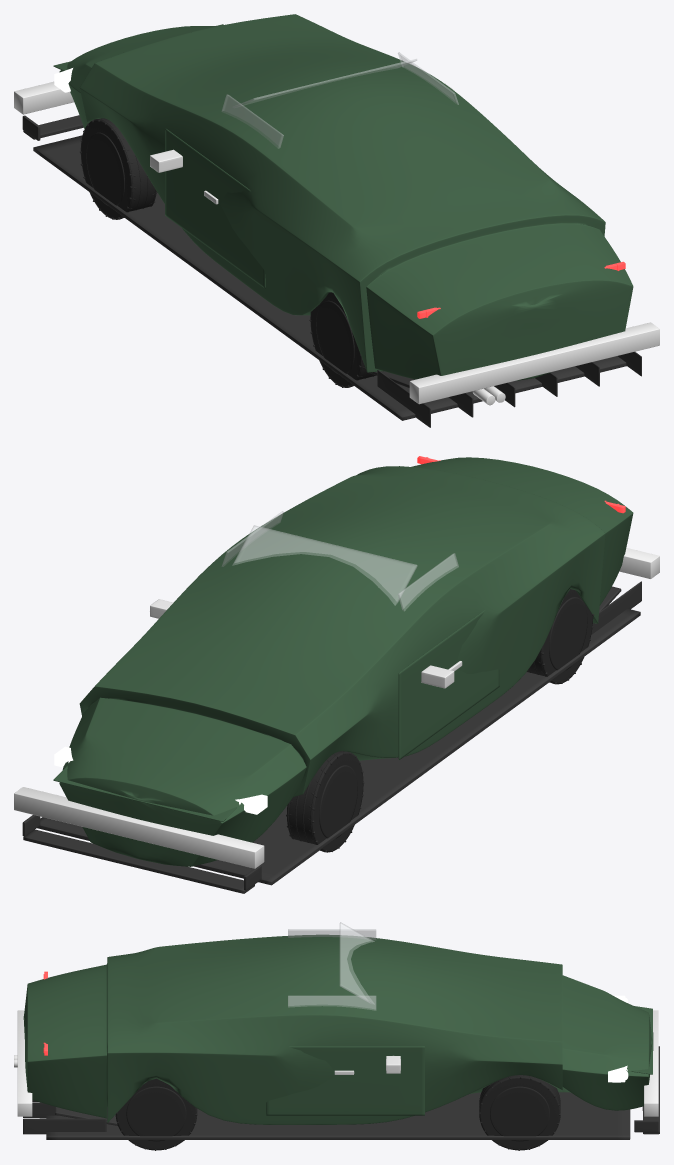
The model's file is vehicle.glb.
3 views of the same model, one above another, from view 1: azimuth 30°, elevation 25°; view 2: azimuth 150°, elevation 25°; view 3: azimuth 270°, elevation 25° (orthographic). The views are drawn at different scales.
Parts seen in each view (by area): view 1: BODY_MainShell, UNDERBODY_FlatFloor, JEWELRY_450SEL_DoubleBumpers, BODY_Door_FL, WHEEL_FL_Tire, WHEEL_RL_Tire, GLASS_Greenhouse, AERO_FrontSplitter, JEWELRY_Hardware; view 2: BODY_MainShell, UNDERBODY_FlatFloor, JEWELRY_450SEL_DoubleBumpers, BODY_Door_FL, GLASS_Greenhouse, WHEEL_FL_Tire, AERO_FrontSplitter, WHEEL_RL_Tire, JEWELRY_Hardware, BODY_Hood, LIGHTING_Headlamps; view 3: BODY_MainShell, UNDERBODY_FlatFloor, BODY_Door_FR, WHEEL_FR_Tire, WHEEL_RR_Tire, GLASS_Greenhouse, JEWELRY_450SEL_DoubleBumpers, AERO_FrontSplitter, JEWELRY_Hardware, LIGHTING_Headlamps.
Boxes of the visible parts, x1,y1,x2,y2 form: BODY_MainShell: (59, 14, 633, 380); UNDERBODY_FlatFloor: (33, 135, 641, 427); JEWELRY_450SEL_DoubleBumpers: (14, 81, 659, 404); BODY_Door_FL: (165, 128, 265, 288); WHEEL_FL_Tire: (80, 118, 157, 219); WHEEL_RL_Tire: (309, 292, 375, 387); GLASS_Greenhouse: (222, 52, 458, 148); AERO_FrontSplitter: (22, 115, 83, 140); JEWELRY_Hardware: (150, 83, 454, 204); BODY_MainShell: (59, 457, 633, 866); UNDERBODY_FlatFloor: (37, 581, 641, 885); JEWELRY_450SEL_DoubleBumpers: (14, 547, 659, 868); BODY_Door_FL: (398, 610, 499, 759); GLASS_Greenhouse: (222, 511, 458, 610); WHEEL_FL_Tire: (286, 751, 364, 852); AERO_FrontSplitter: (22, 815, 261, 893); WHEEL_RL_Tire: (527, 589, 593, 684); JEWELRY_Hardware: (150, 599, 462, 688); BODY_Hood: (53, 765, 236, 821); LIGHTING_Headlamps: (54, 746, 267, 814); BODY_MainShell: (23, 934, 652, 1124); UNDERBODY_FlatFloor: (23, 1092, 630, 1139); BODY_Door_FR: (266, 1046, 424, 1115); WHEEL_FR_Tire: (479, 1075, 560, 1150); WHEEL_RR_Tire: (115, 1078, 197, 1150); GLASS_Greenhouse: (288, 922, 376, 1010); JEWELRY_450SEL_DoubleBumpers: (17, 1010, 658, 1116); AERO_FrontSplitter: (634, 1046, 659, 1134); JEWELRY_Hardware: (334, 1055, 400, 1074); LIGHTING_Headlamps: (608, 995, 628, 1082).
Size of what is drawn, in the model's own units: 2.2 by 1.37 by 5.26.
